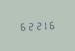one: (42, 19, 49, 30)
six: (18, 21, 25, 31), (50, 19, 57, 29)
two: (26, 20, 33, 31), (34, 20, 41, 30)
